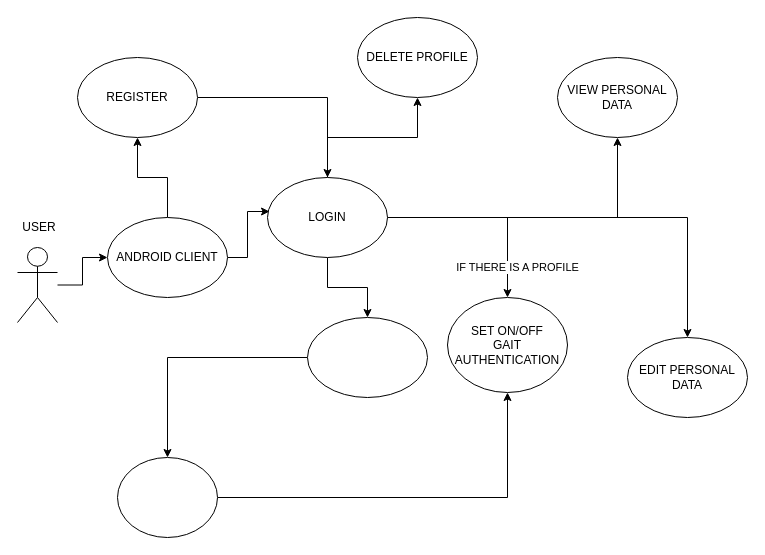
Some shapes in this 765 by 555 pixel diagram are drawn without their labels. Each missing label, with the centre of its shape:
"Actor" belongs at point (37, 284).
"ADD PROFILE" belongs at point (367, 357).
"FINISHED CREATING" belongs at point (167, 497).
